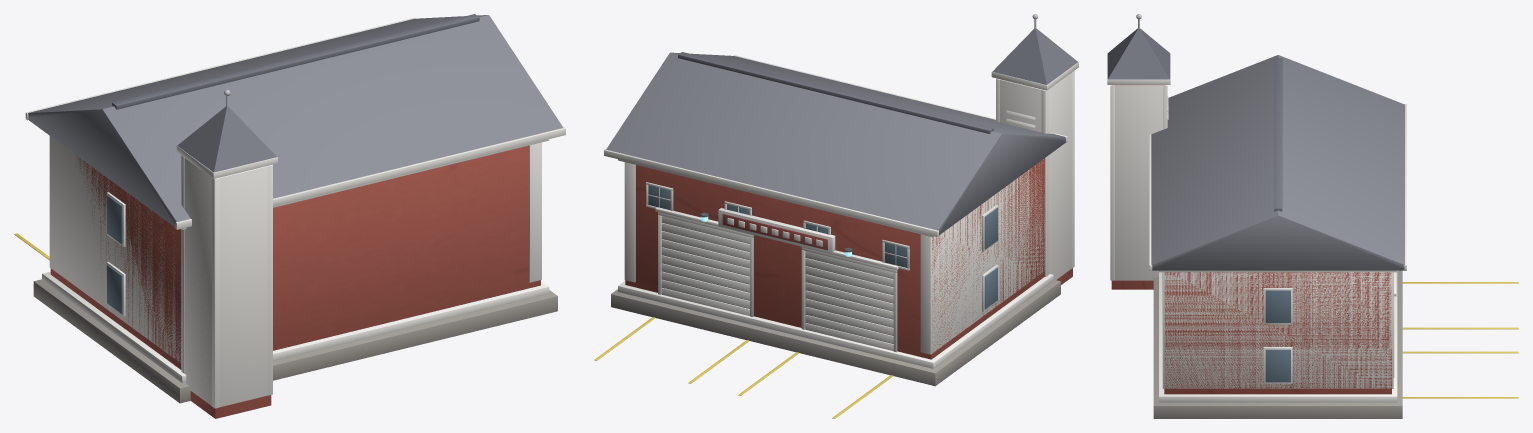
Rendered from th43_feuerwache.glb.
3 renders of one model, left to right at view 1: azimuth 30°, elevation 25°; view 2: azimuth 150°, elevation 25°; view 3: azimuth 270°, elevation 25°, orthographic. The views are drawn at different scales.
Parts seen in each view (by area): view 1: Satteldach, Cube.002, Cube.003, Cube.094, Cube, Cube.093, Cube.001, Cone, Cube.091, Cube.089, Cube.004, Cube.095 (+7 smaller); view 2: Satteldach, Cube.002, Cube.003, Cube, Cube.093, Cube.001, Cone, Cube.091, Cube.090, Cube.096, Cube.004, Cube.078 (+30 smaller); view 3: Satteldach, Cube.004, Cube.002, Cube.095, Cube, Cube.001, Cone, Cube.091, Cube.094, Cube.074, Cube.077, Cube.005 (+3 smaller).
Boxes of the visible parts, <box> form: Satteldach: <box>28,15,563,227</box>; Cube.002: <box>50,145,540,369</box>; Cube.003: <box>49,136,181,362</box>; Cube.094: <box>212,165,272,408</box>; Cube: <box>33,279,557,403</box>; Cube.093: <box>184,158,219,408</box>; Cube.001: <box>42,271,549,383</box>; Cone: <box>177,107,276,172</box>; Cube.091: <box>112,14,479,109</box>; Cube.089: <box>175,127,565,229</box>; Cube.004: <box>529,142,541,282</box>; Cube.095: <box>268,165,272,395</box>; Satteldach: <box>606,52,1065,235</box>; Cube.002: <box>625,158,1044,359</box>; Cube.003: <box>920,159,1044,354</box>; Cube: <box>611,279,1060,386</box>; Cube.093: <box>1041,72,1072,279</box>; Cube.001: <box>618,274,1053,368</box>; Cone: <box>992,28,1077,84</box>; Cube.091: <box>678,52,993,133</box>; Cube.090: <box>604,149,938,237</box>; Cube.096: <box>1000,79,1048,276</box>; Cube.004: <box>624,162,635,282</box>; Cube.078: <box>718,208,835,253</box>; Satteldach: <box>1151,55,1404,270</box>; Cube.004: <box>1162,272,1393,388</box>; Cube.002: <box>1164,272,1391,394</box>; Cube.095: <box>1110,85,1167,280</box>; Cube: <box>1153,270,1402,418</box>; Cube.001: <box>1159,272,1397,402</box>; Cone: <box>1107,28,1170,79</box>; Cube.091: <box>1274,58,1282,211</box>; Cube.094: <box>1110,85,1114,280</box>; Cube.074: <box>1265,349,1290,382</box>; Cube.077: <box>1265,290,1290,322</box>; Cube.005: <box>1159,270,1397,272</box>.
Size of the model in its own units: 18.1 by 13.81 by 19.5.
12 materials, 1 textured.
